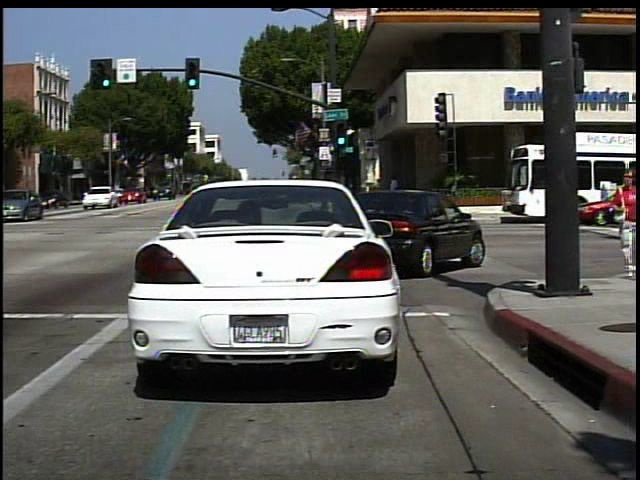person: (608, 167, 639, 278), (385, 172, 404, 214)
